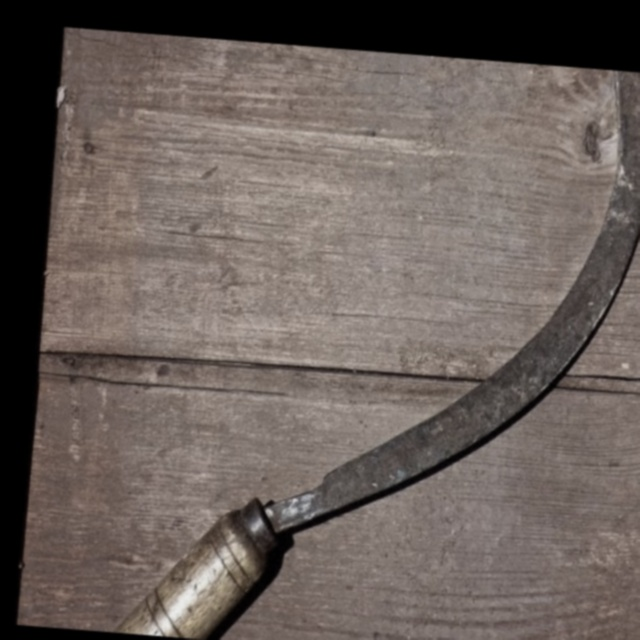Sharp-Object: (112, 35, 640, 640)
